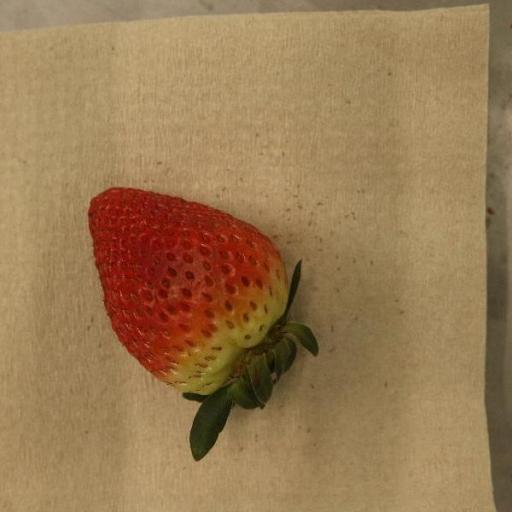Strawberry: (87, 187, 321, 461)
